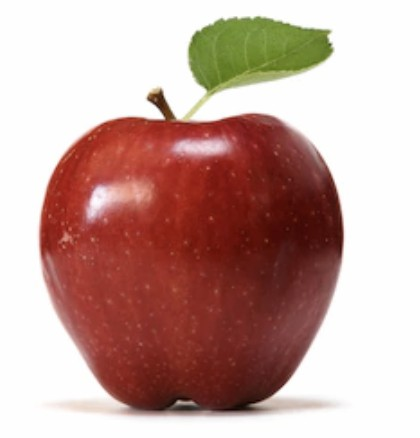fresh_apple: (39, 114, 345, 412)
